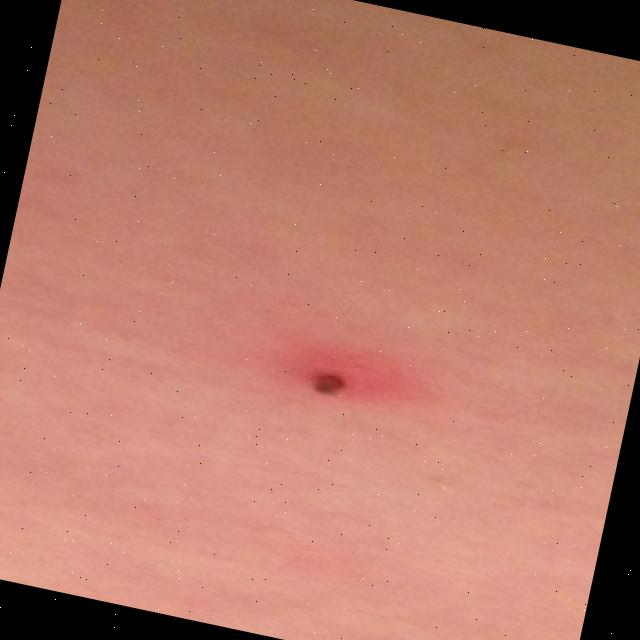kene: (286, 352, 376, 416)
